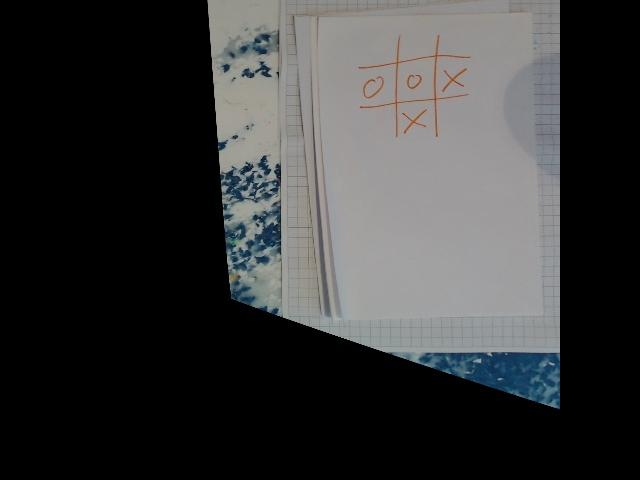O: (362, 74, 392, 100), (404, 70, 426, 94)
X: (402, 106, 432, 138), (441, 65, 471, 95)
grid: (356, 25, 474, 144)
